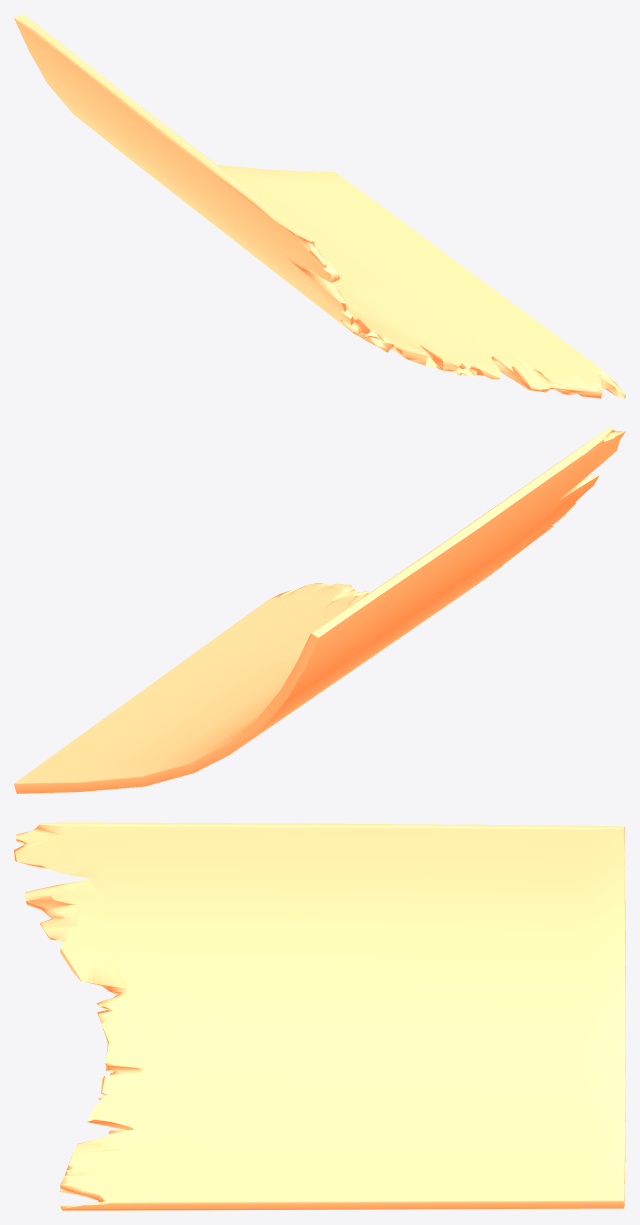
Rendered from SM_HullMid.fbx.
3 views of the same model, one above another, from view 1: azimuth 30°, elevation 25°; view 2: azimuth 150°, elevation 25°; view 3: azimuth 270°, elevation 25° (orthographic). The views are drawn at different scales.
Parts seen in each view (by area): view 1: SM_HullMid_LOD0; view 2: SM_HullMid_LOD0; view 3: SM_HullMid_LOD0.
Part boxes in pixels (x1,y1,x2,y2): SM_HullMid_LOD0: [14, 14, 625, 398]; SM_HullMid_LOD0: [14, 427, 625, 793]; SM_HullMid_LOD0: [14, 822, 625, 1210].
Size of the model in its own units: 598 by 994 by 425.
